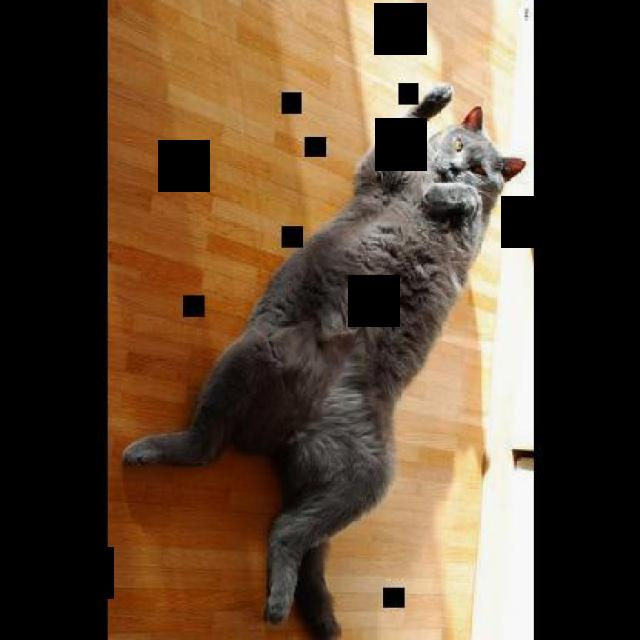unauthorized: (120, 83, 526, 639)
